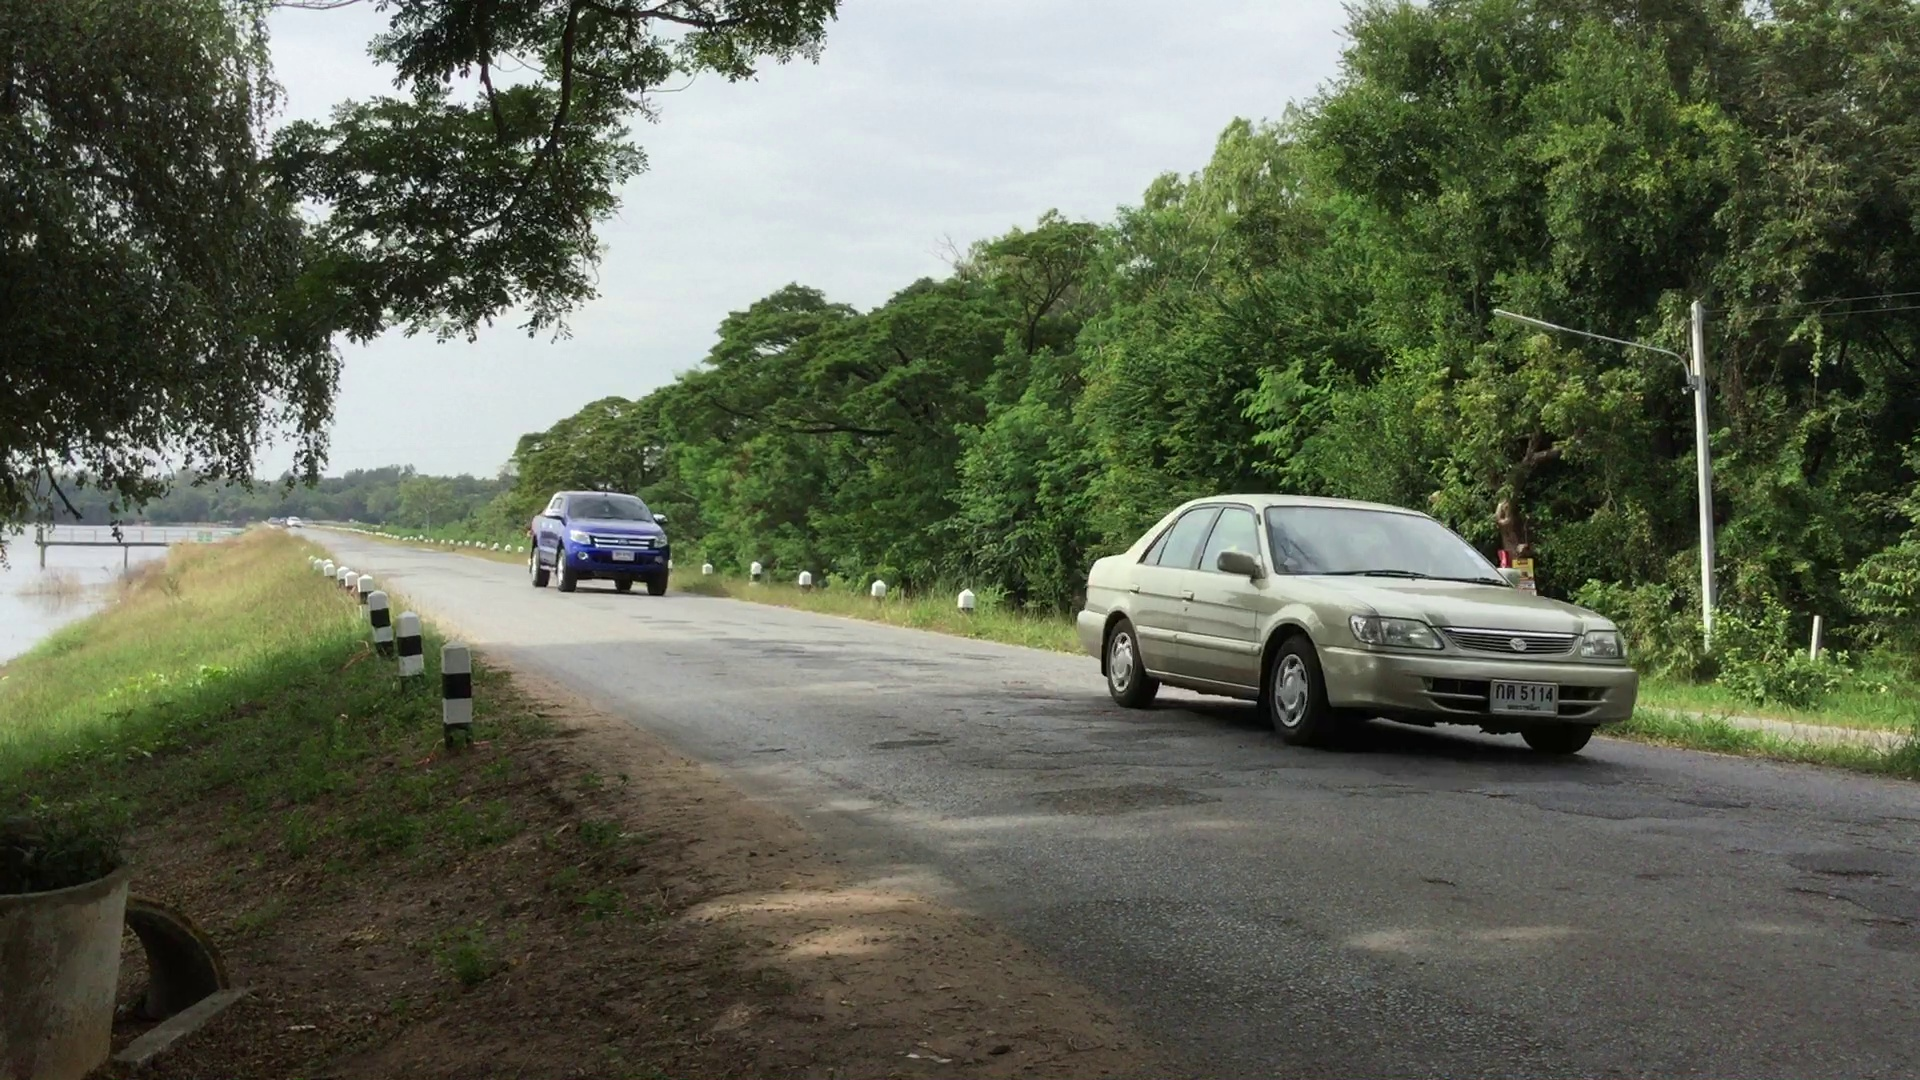car: (1076, 493, 1636, 761), (526, 493, 673, 589)
